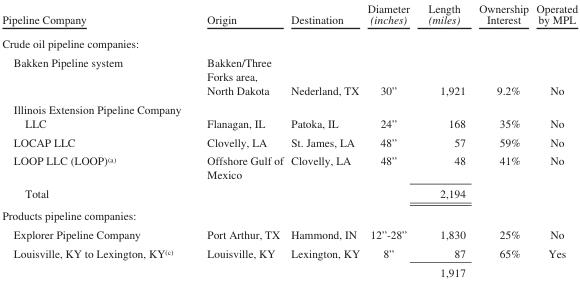table: (1, 1, 577, 278)
table column: (1, 1, 193, 278), (193, 1, 286, 278), (286, 1, 362, 278), (471, 1, 531, 278), (362, 1, 418, 278), (418, 1, 471, 278), (531, 1, 577, 278)
table column header: (1, 1, 577, 31)
table projected row header: (1, 31, 577, 52), (1, 204, 577, 224)
table row: (1, 52, 577, 99), (1, 99, 577, 132), (1, 151, 577, 183), (1, 1, 577, 31), (1, 31, 577, 52), (1, 183, 577, 204), (1, 204, 577, 224), (1, 132, 577, 151), (1, 224, 577, 243), (1, 243, 577, 262), (1, 262, 577, 278)
table spanning cell: (1, 243, 193, 278)
